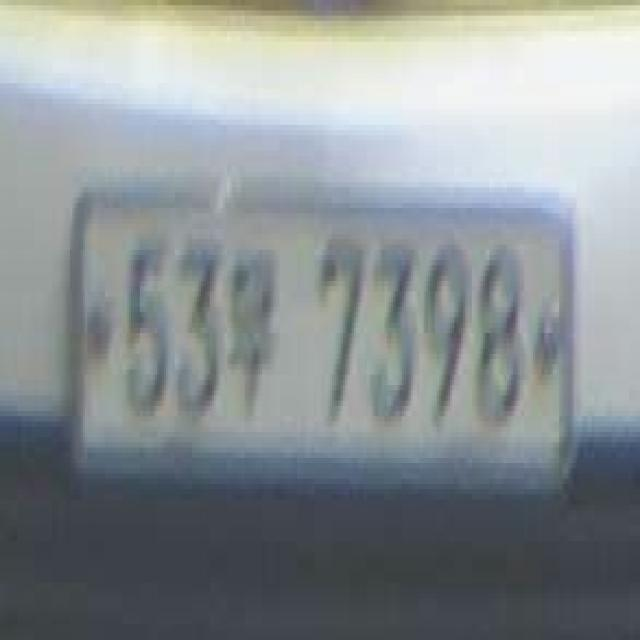3: (166, 213, 225, 442), (376, 198, 422, 437)
5: (116, 239, 168, 432)
7: (314, 229, 374, 432)
8: (474, 229, 542, 447)
9: (426, 218, 472, 458)
license_plate: (59, 156, 581, 531)
mu: (218, 224, 280, 411)
